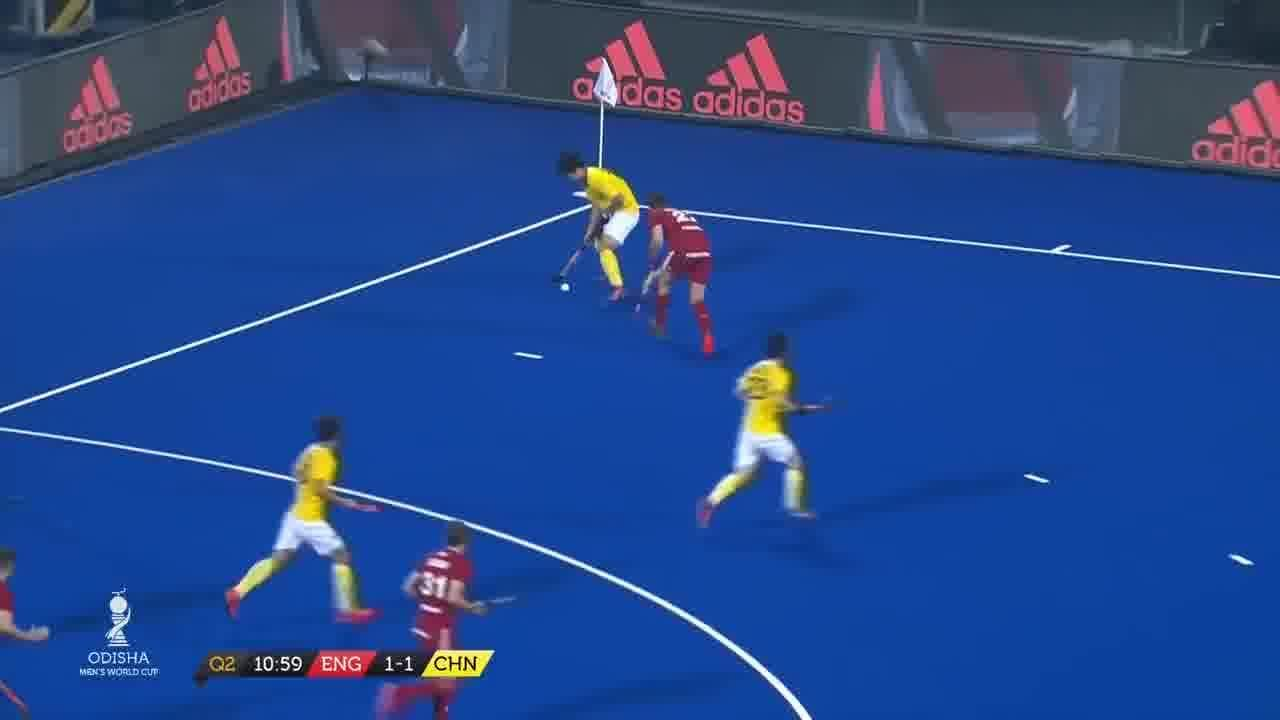ball: (560, 274, 574, 294)
